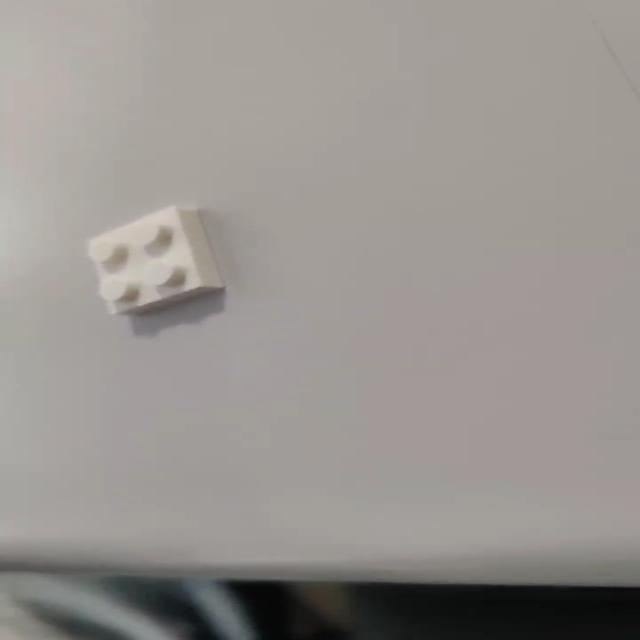C2x2x0: (84, 205, 224, 318)
